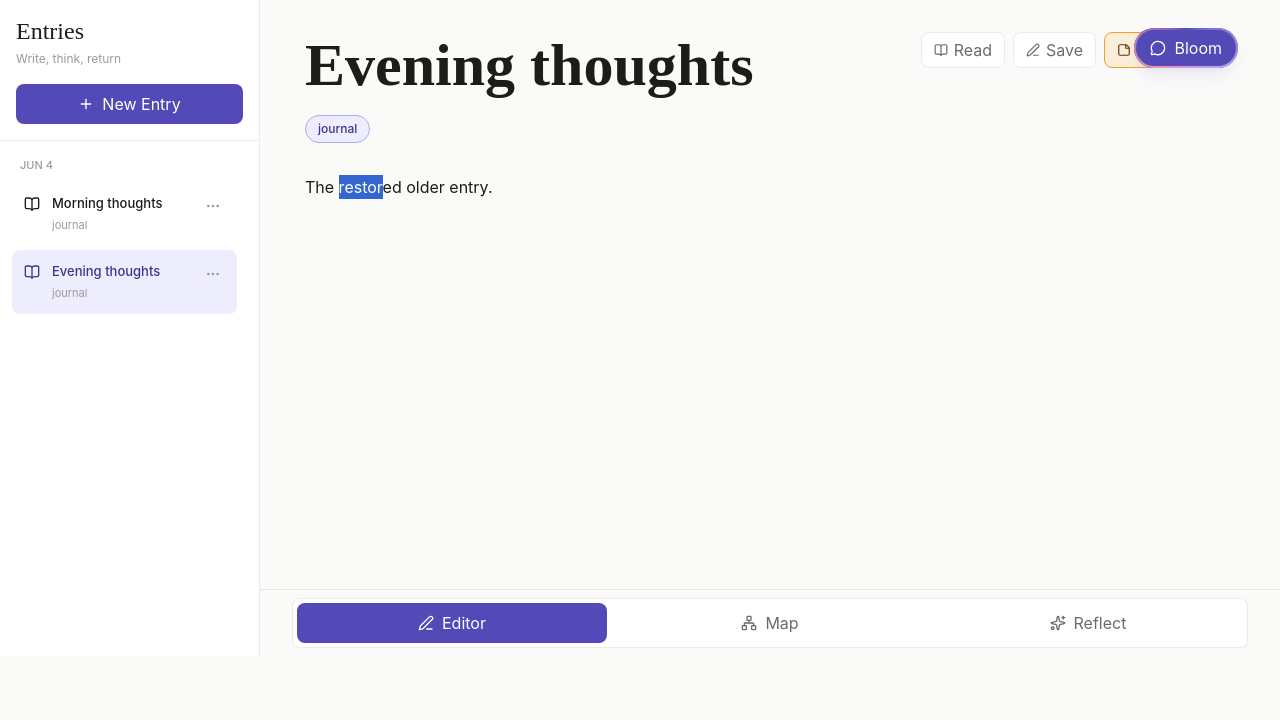
Test: JournalWorkspace › restores the entry from the URL after loading the workspace
Expected: the text box showing "The restored older entry." is shown, x1=305 y1=175 x2=1225 y2=589
Click the button with aria-label "Open Bloom assistant" at [1186, 48], box x1=1134 y1=28 x2=1238 y2=68
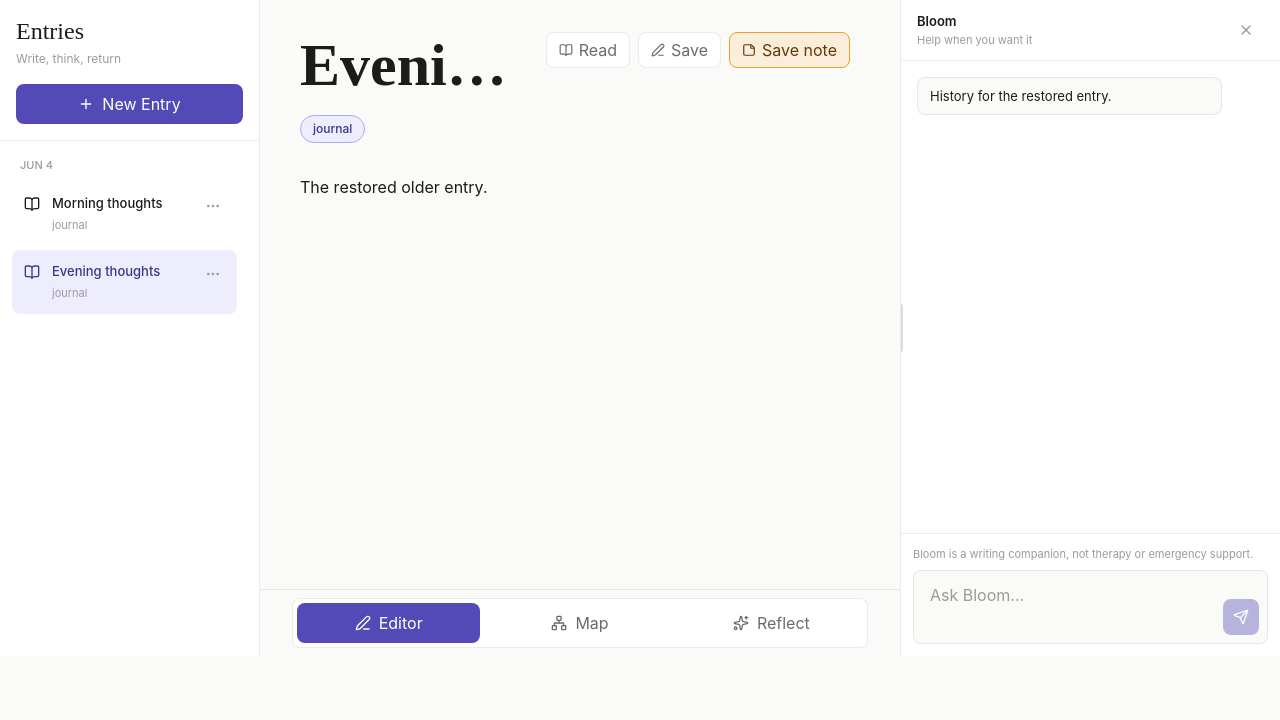
Expected: the text "History for the restored entry." is shown, x1=917 y1=77 x2=1222 y2=115
